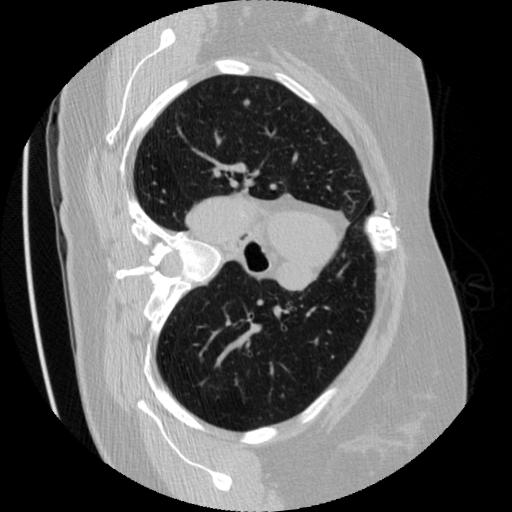nodule: (242, 99, 254, 111)
